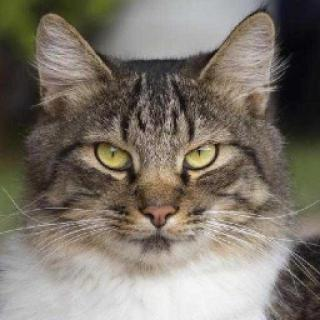cat: (32, 12, 279, 264)
nose: (136, 176, 183, 230)
